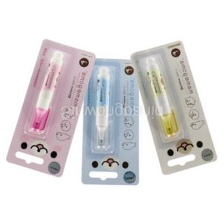book: (4, 36, 97, 179), (127, 38, 218, 176), (79, 55, 141, 188)
correction_fluid: (25, 49, 64, 135), (141, 54, 180, 138), (90, 65, 113, 150)
